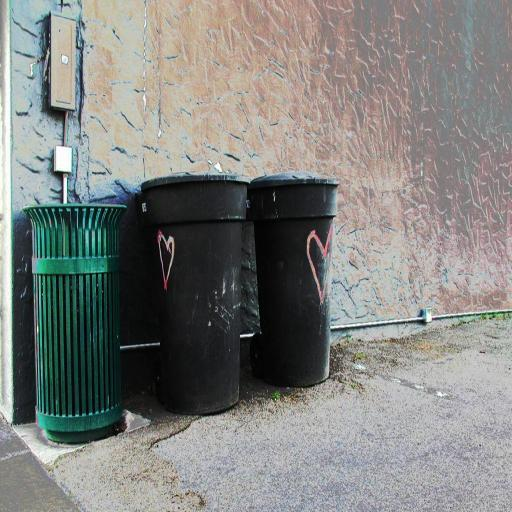trash-can: (138, 164, 254, 421), (24, 187, 136, 442)
